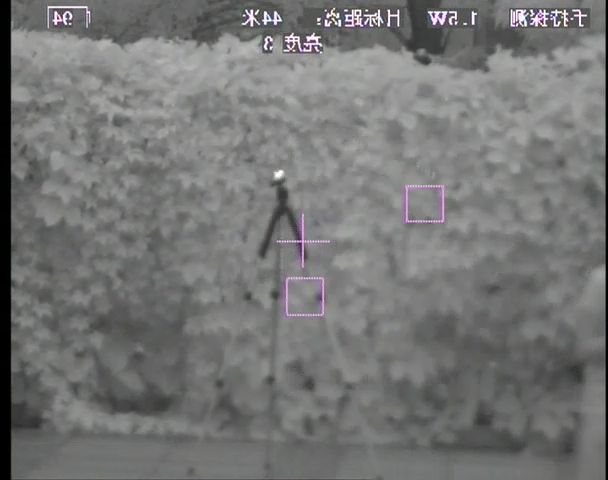my: (273, 168, 285, 179)
